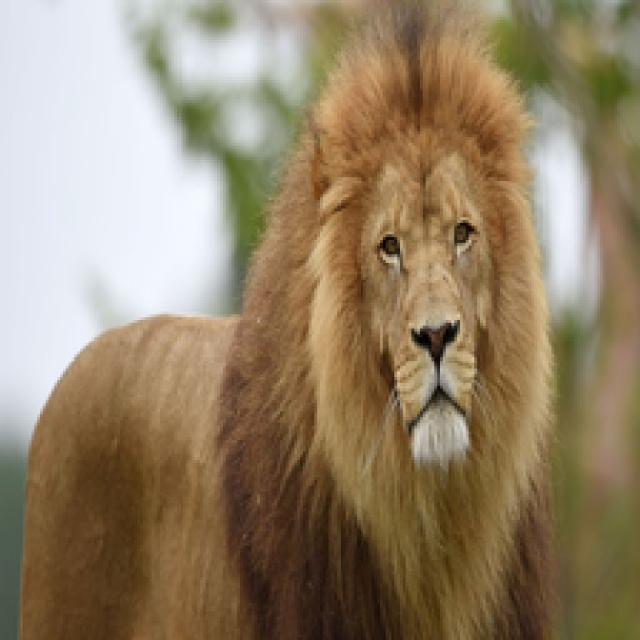lion: (11, 20, 589, 625)
